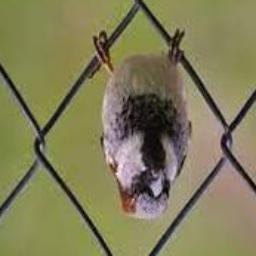Sparrow: (99, 50, 191, 220)
